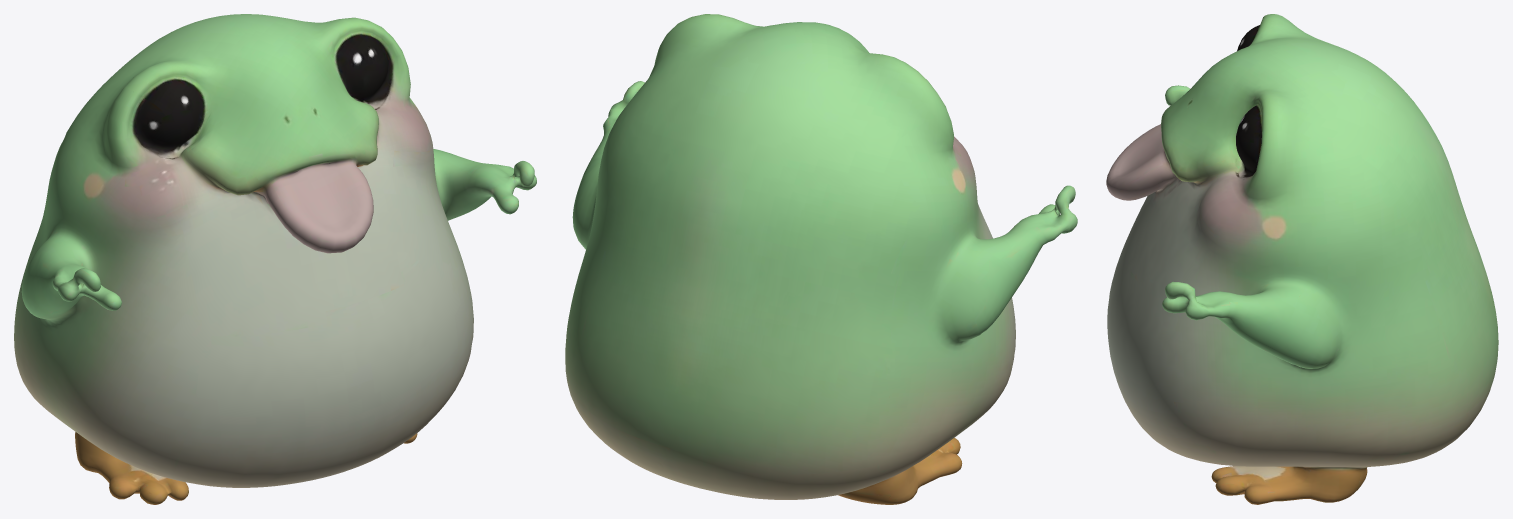
The model's file is cute-round-frog.glb.
3 views of the same model, side by side, from view 1: azimuth 30°, elevation 25°; view 2: azimuth 150°, elevation 25°; view 3: azimuth 270°, elevation 25° (orthographic). The views are drawn at different scales.
Parts seen in each view (by area): view 1: model__0; view 2: model__0; view 3: model__0.
Boxes of the visible parts, x1,y1,x2,y2 form: model__0: [14, 14, 536, 504]; model__0: [565, 14, 1077, 504]; model__0: [1106, 14, 1498, 504].
Bounding box in the file's own units: 1.9 × 1.64 × 1.48.
Materials: 1 (1 with a texture image).
